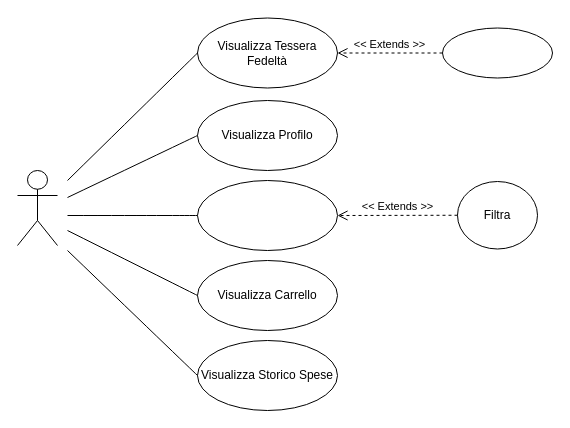
This 570x428 diagram has some shape labels left out. The box of each missing label's shape, as (x1, y1, x2, y2) in pixels:
Crea Tessera: (442, 27, 552, 78)
Utente: (16, 170, 58, 246)
Visualizza Catalogo: (196, 180, 338, 250)
